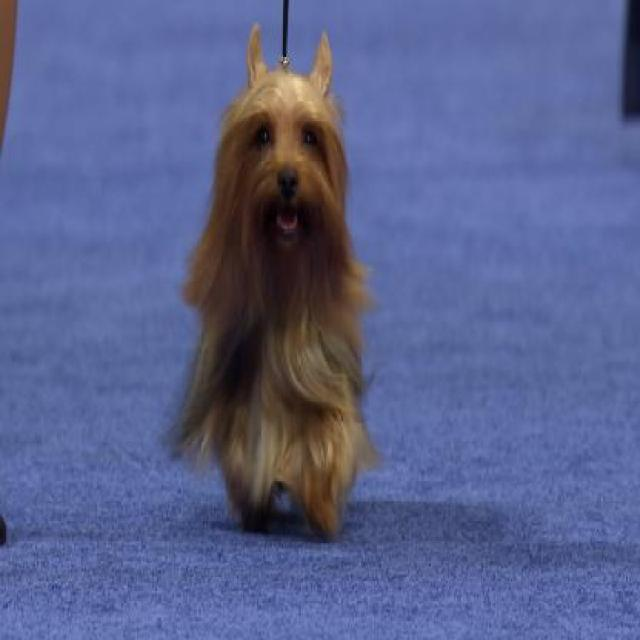animals: (162, 13, 392, 544)
